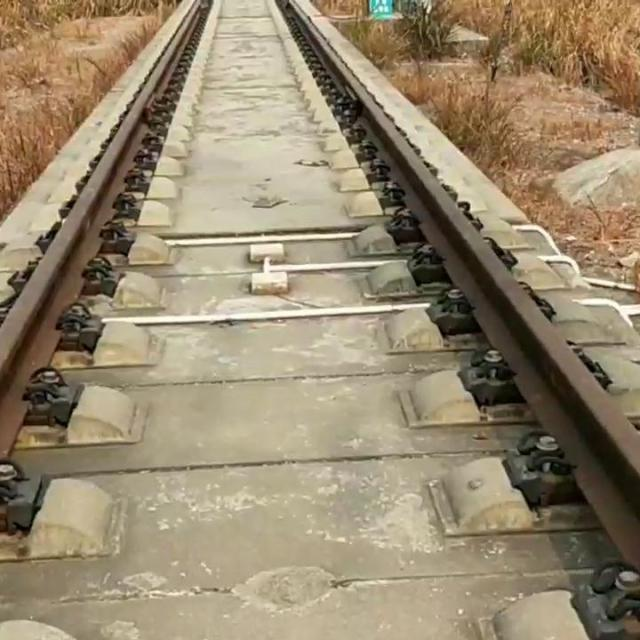rail: (289, 0, 640, 571)
